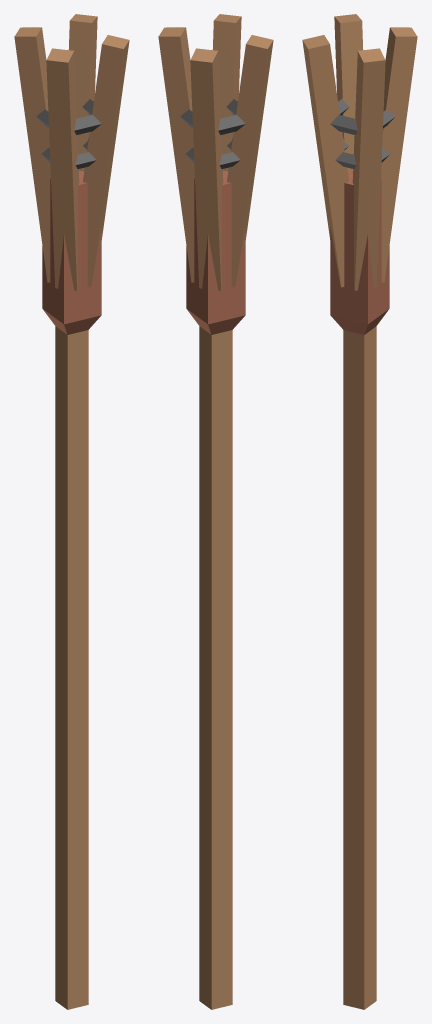
The model's file is TikiTorch.fbx.
The picture shows the model from 3 angles, left to right: view 1: azimuth 30°, elevation 25°; view 2: azimuth 210°, elevation 25°; view 3: azimuth 330°, elevation 25°; orthographic projection.
Visible parts, largest first — view 1: Cube, Cube.004, Cube.001, Cube.003, Cube.002, Torus.001, Torus; view 2: Cube, Cube.002, Cube.003, Cube.001, Cube.004, Torus.001, Torus; view 3: Cube, Cube.001, Cube.004, Cube.002, Cube.003, Torus.001, Torus.
Part boxes in pixels (bbox=[...]): Cube: bbox=[42, 170, 101, 1009]; Cube.004: bbox=[46, 48, 79, 290]; Cube.001: bbox=[83, 35, 129, 287]; Cube.003: bbox=[14, 27, 50, 282]; Cube.002: bbox=[68, 14, 97, 171]; Torus.001: bbox=[36, 98, 101, 134]; Torus: bbox=[41, 138, 96, 168]; Cube: bbox=[186, 170, 245, 1009]; Cube.002: bbox=[190, 48, 223, 290]; Cube.003: bbox=[227, 35, 273, 287]; Cube.001: bbox=[158, 27, 194, 282]; Cube.004: bbox=[212, 14, 241, 171]; Torus.001: bbox=[180, 98, 245, 134]; Torus: bbox=[185, 138, 240, 168]; Cube: bbox=[330, 170, 389, 1009]; Cube.001: bbox=[352, 48, 385, 290]; Cube.004: bbox=[302, 35, 348, 287]; Cube.002: bbox=[381, 27, 417, 282]; Cube.003: bbox=[334, 14, 363, 171]; Torus.001: bbox=[330, 98, 395, 134]; Torus: bbox=[335, 138, 390, 168].
Bounding box in the file's own units: 25.73 × 286 × 25.73.
